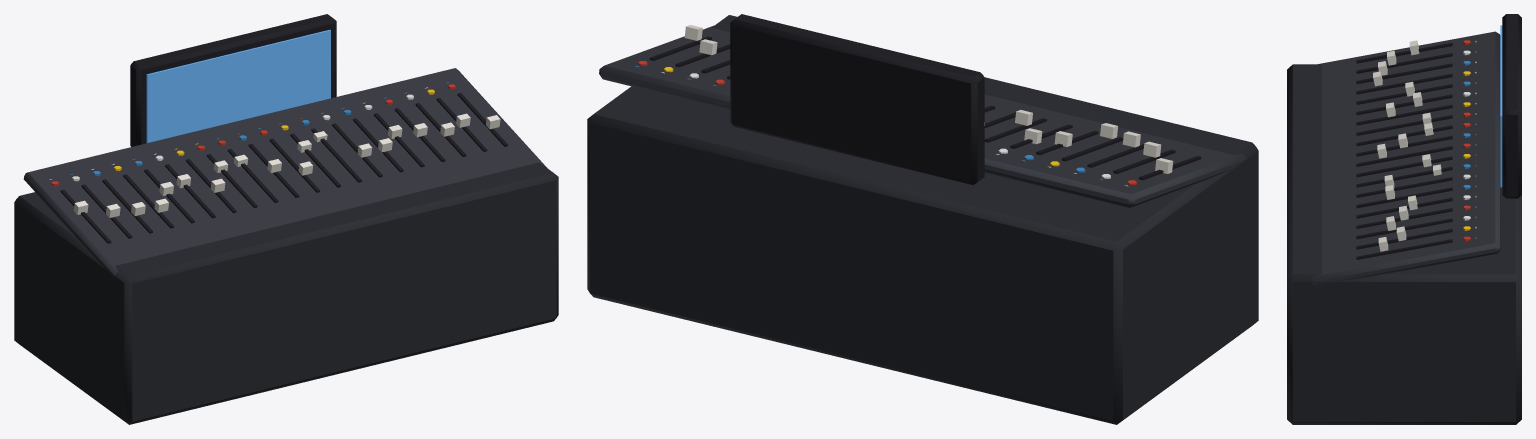
File: mixing_desk.glb
The picture shows the model from 3 angles, left to right: view 1: azimuth 30°, elevation 25°; view 2: azimuth 150°, elevation 25°; view 3: azimuth 270°, elevation 25°; orthographic projection. The views are drawn at different scales.
Parts seen in each view (by area): view 1: mixing_desk; view 2: mixing_desk; view 3: mixing_desk.
Boxes of the visible parts, x1,y1,x2,y2 form: mixing_desk: (14,14,558,424); mixing_desk: (587,14,1258,424); mixing_desk: (1287,14,1521,424).
Bounding box in the file's own units: 2.6 × 1.46 × 1.2.
